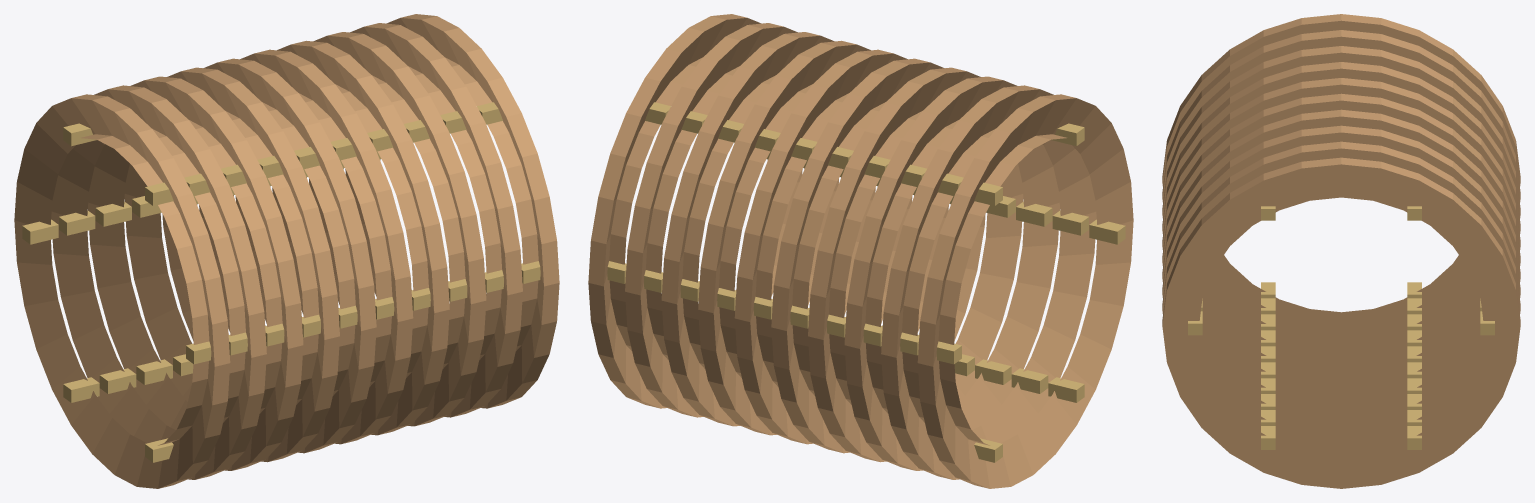
The model's file is 48_L75_MultiZoneActivationHeater.glb.
3 views of the same model, side by side, from view 1: azimuth 30°, elevation 25°; view 2: azimuth 150°, elevation 25°; view 3: azimuth 270°, elevation 25° (orthographic). The views are drawn at different scales.
Visible parts, largest first — view 1: MultiZoneActivationHeater_Node_0000, MultiZoneActivationHeater_Node_0007, MultiZoneActivationHeater_Node_0014, MultiZoneActivationHeater_Node_0021, MultiZoneActivationHeater_Node_0028, MultiZoneActivationHeater_Node_0063, MultiZoneActivationHeater_Node_0049, MultiZoneActivationHeater_Node_0042, MultiZoneActivationHeater_Node_0035, MultiZoneActivationHeater_Node_0056, MultiZoneActivationHeater_Node_0012, MultiZoneActivationHeater_Node_0019 (+4 smaller); view 2: MultiZoneActivationHeater_Node_0000, MultiZoneActivationHeater_Node_0007, MultiZoneActivationHeater_Node_0014, MultiZoneActivationHeater_Node_0021, MultiZoneActivationHeater_Node_0028, MultiZoneActivationHeater_Node_0063, MultiZoneActivationHeater_Node_0049, MultiZoneActivationHeater_Node_0042, MultiZoneActivationHeater_Node_0035, MultiZoneActivationHeater_Node_0056, MultiZoneActivationHeater_Node_0013, MultiZoneActivationHeater_Node_0020 (+4 smaller); view 3: MultiZoneActivationHeater_Node_0063, MultiZoneActivationHeater_Node_0056, MultiZoneActivationHeater_Node_0049, MultiZoneActivationHeater_Node_0042, MultiZoneActivationHeater_Node_0035, MultiZoneActivationHeater_Node_0028, MultiZoneActivationHeater_Node_0021, MultiZoneActivationHeater_Node_0014, MultiZoneActivationHeater_Node_0007, MultiZoneActivationHeater_Node_0000.
Boxes of the visible parts, left/top/right/bottom form: MultiZoneActivationHeater_Node_0000: left=14, top=94, right=230, bottom=488; MultiZoneActivationHeater_Node_0007: left=51, top=85, right=266, bottom=479; MultiZoneActivationHeater_Node_0014: left=88, top=76, right=303, bottom=470; MultiZoneActivationHeater_Node_0021: left=124, top=67, right=339, bottom=462; MultiZoneActivationHeater_Node_0028: left=162, top=58, right=376, bottom=453; MultiZoneActivationHeater_Node_0063: left=345, top=14, right=559, bottom=408; MultiZoneActivationHeater_Node_0049: left=272, top=32, right=486, bottom=426; MultiZoneActivationHeater_Node_0042: left=235, top=40, right=449, bottom=435; MultiZoneActivationHeater_Node_0035: left=199, top=49, right=413, bottom=444; MultiZoneActivationHeater_Node_0056: left=309, top=23, right=522, bottom=417; MultiZoneActivationHeater_Node_0012: left=99, top=368, right=136, bottom=393; MultiZoneActivationHeater_Node_0019: left=136, top=359, right=172, bottom=384; MultiZoneActivationHeater_Node_0000: left=917, top=94, right=1133, bottom=488; MultiZoneActivationHeater_Node_0007: left=881, top=85, right=1096, bottom=479; MultiZoneActivationHeater_Node_0014: left=844, top=76, right=1059, bottom=470; MultiZoneActivationHeater_Node_0021: left=808, top=67, right=1023, bottom=462; MultiZoneActivationHeater_Node_0028: left=771, top=58, right=985, bottom=453; MultiZoneActivationHeater_Node_0063: left=588, top=14, right=802, bottom=408; MultiZoneActivationHeater_Node_0049: left=661, top=32, right=875, bottom=426; MultiZoneActivationHeater_Node_0042: left=698, top=40, right=912, bottom=435; MultiZoneActivationHeater_Node_0035: left=734, top=49, right=948, bottom=444; MultiZoneActivationHeater_Node_0056: left=625, top=23, right=838, bottom=417; MultiZoneActivationHeater_Node_0013: left=1011, top=368, right=1048, bottom=393; MultiZoneActivationHeater_Node_0020: left=975, top=359, right=1011, bottom=384; MultiZoneActivationHeater_Node_0063: left=1162, top=157, right=1520, bottom=488; MultiZoneActivationHeater_Node_0056: left=1162, top=141, right=1520, bottom=455; MultiZoneActivationHeater_Node_0049: left=1162, top=125, right=1520, bottom=439; MultiZoneActivationHeater_Node_0042: left=1162, top=109, right=1520, bottom=423; MultiZoneActivationHeater_Node_0035: left=1162, top=93, right=1520, bottom=407; MultiZoneActivationHeater_Node_0028: left=1162, top=78, right=1520, bottom=391; MultiZoneActivationHeater_Node_0021: left=1162, top=62, right=1520, bottom=375; MultiZoneActivationHeater_Node_0014: left=1162, top=46, right=1520, bottom=359; MultiZoneActivationHeater_Node_0007: left=1162, top=30, right=1520, bottom=343; MultiZoneActivationHeater_Node_0000: left=1162, top=14, right=1520, bottom=328.
Size of the model in its own units: 1.01 by 0.98 by 0.98.
